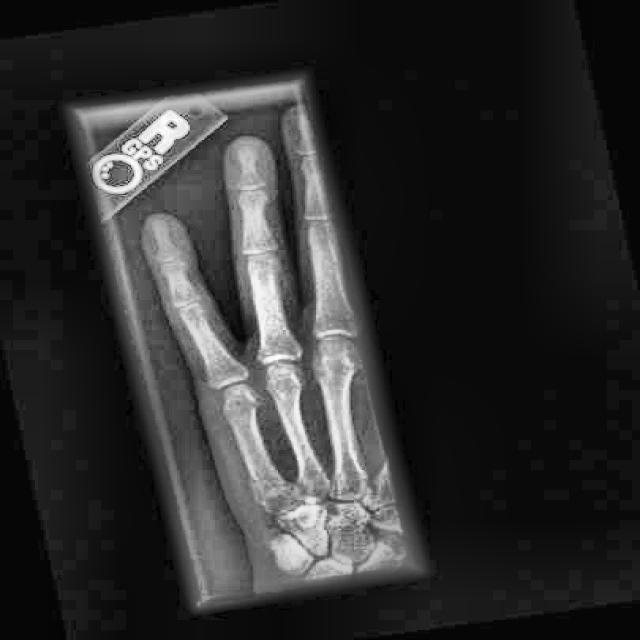fingers positive: (239, 466, 298, 496), (240, 254, 285, 279)
